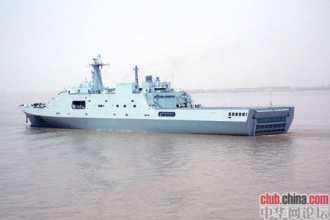warship: (19, 59, 299, 134)
